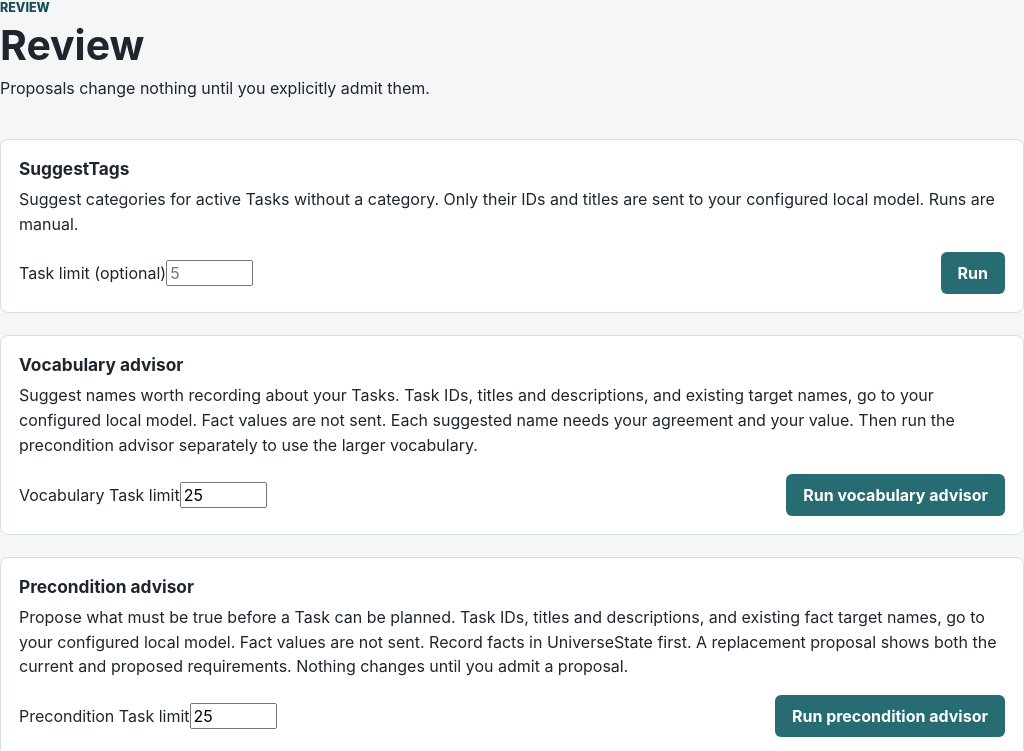
Scenario: the untouched SuggestTags list keeps its original rendering without a count line
Expected: the button "Run precondition advisor" is enabled, [775,695,1005,737]
Step 1. Click the button "Run" → (973, 273), box [941,252,1005,294]
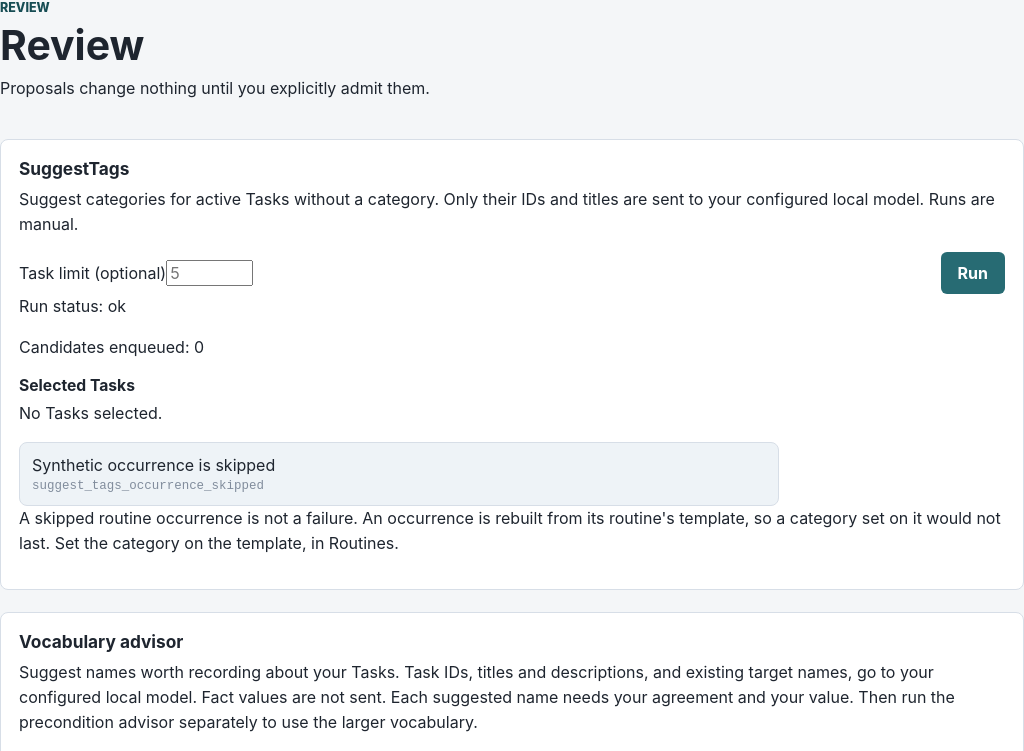
Result: the text "Synthetic occurrence is skipped" is shown at [32,455,275,475]
